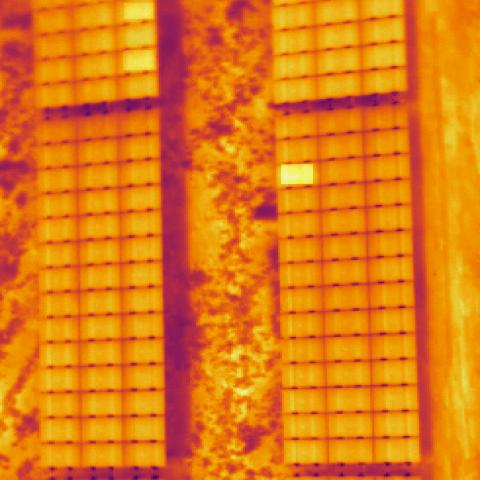fault: (122, 27, 156, 47), (124, 50, 158, 70), (281, 164, 313, 184), (124, 3, 154, 19)
